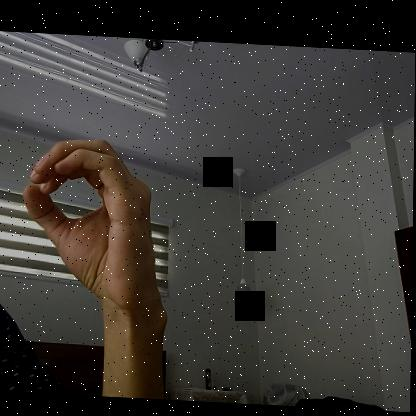O: (19, 131, 162, 311)
